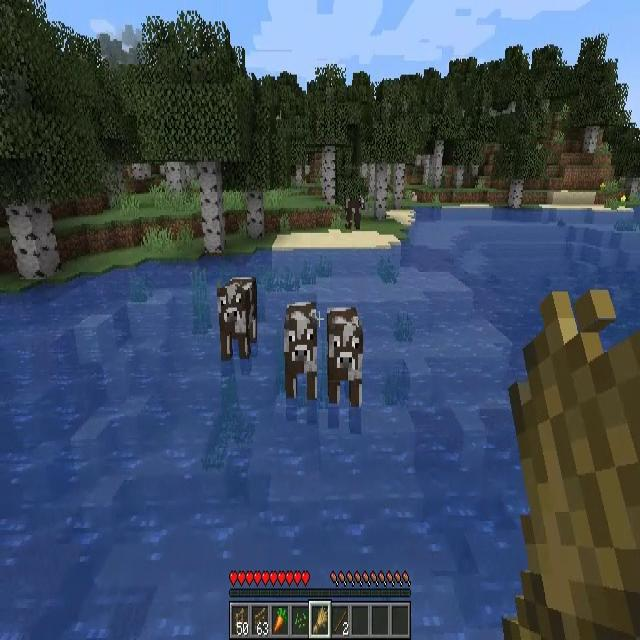cow: (328, 309, 362, 406), (219, 275, 256, 358), (286, 302, 317, 397), (345, 196, 365, 230)
